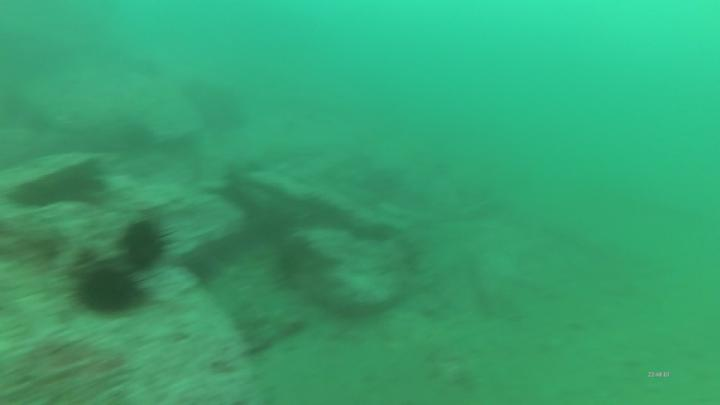echinus: (70, 265, 145, 318), (122, 217, 176, 272), (277, 241, 311, 281)
